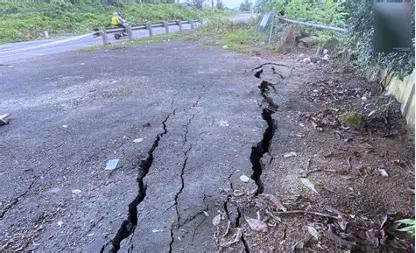ROAD_CRACK: (18, 55, 228, 230), (195, 65, 400, 230)
